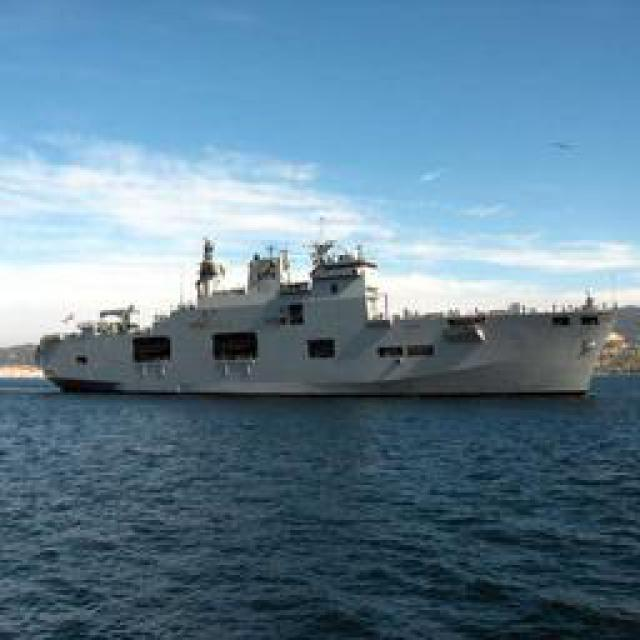Ship: (34, 232, 617, 405)
